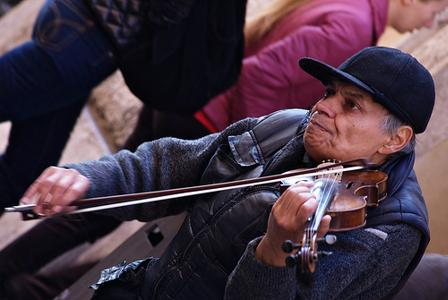person: (21, 46, 439, 300)
